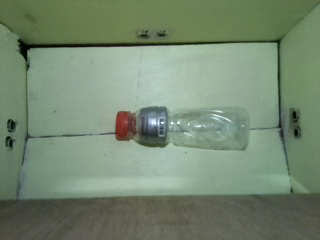bottle: (114, 105, 252, 151)
